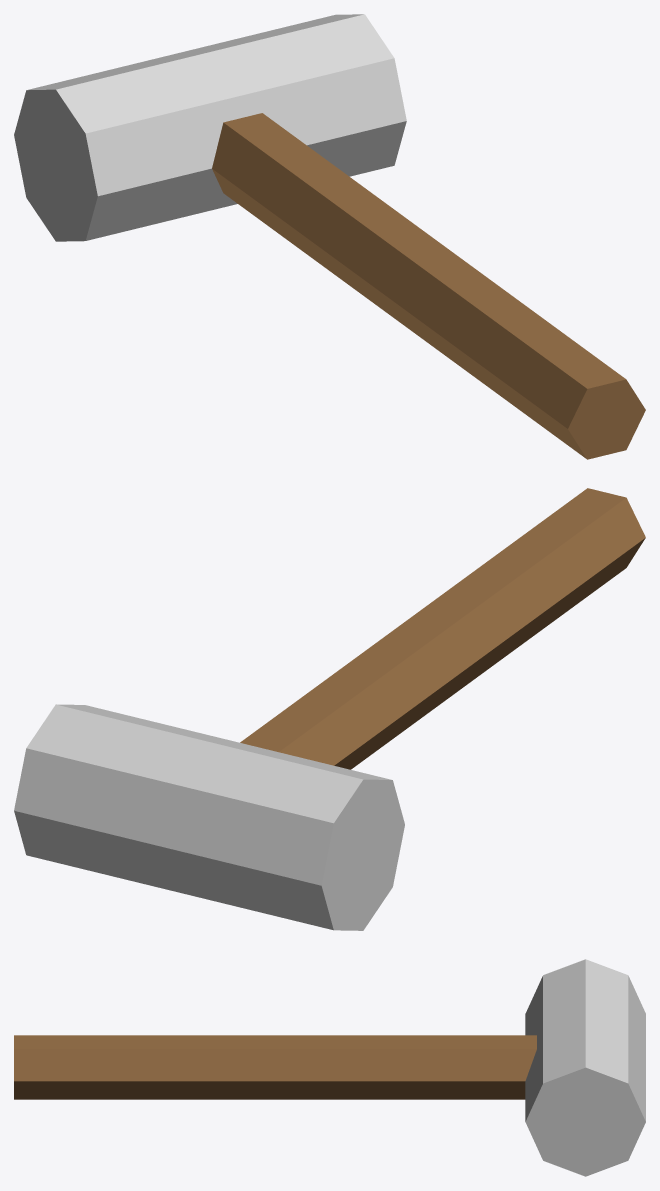
The model's file is Me_Tool_2.fbx.
3 views of the same model, one above another, from view 1: azimuth 30°, elevation 25°; view 2: azimuth 150°, elevation 25°; view 3: azimuth 270°, elevation 25° (orthographic). The views are drawn at different scales.
Parts seen in each view (by area): view 1: Me_Tool_2; view 2: Me_Tool_2; view 3: Me_Tool_2.
Part boxes in pixels (x1,y1,x2,y2): Me_Tool_2: [14, 14, 645, 459]; Me_Tool_2: [14, 488, 645, 930]; Me_Tool_2: [14, 959, 645, 1176].
Bounding box in the file's own units: 131 × 323 × 61.51.
